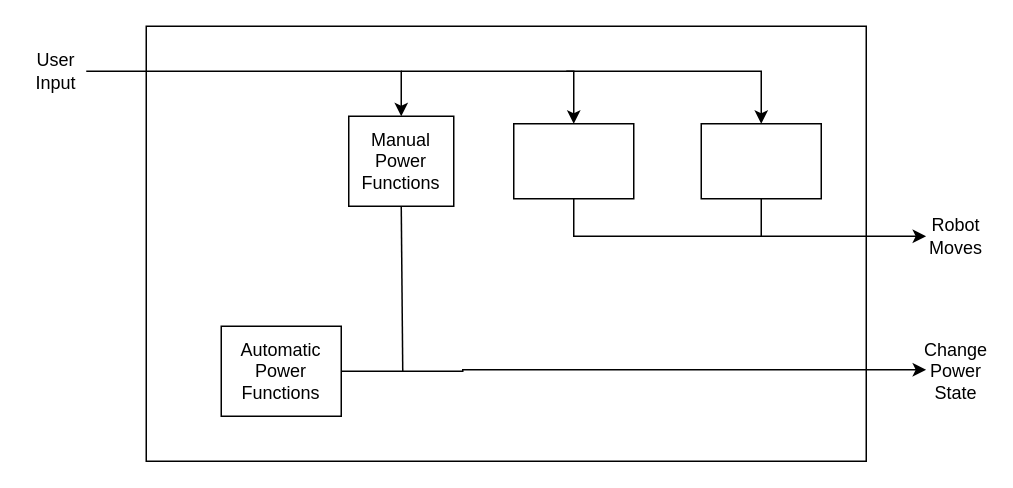
Image size: 1013x488. Some labels were removed from this diagram. The shapes that lost their labels are listed below. From the top down, each one's box as (x1, y1, x2, y2) in pixels, then its label:
(512, 122, 634, 199): Movement Functions
(700, 122, 821, 199): Weapon Functions
